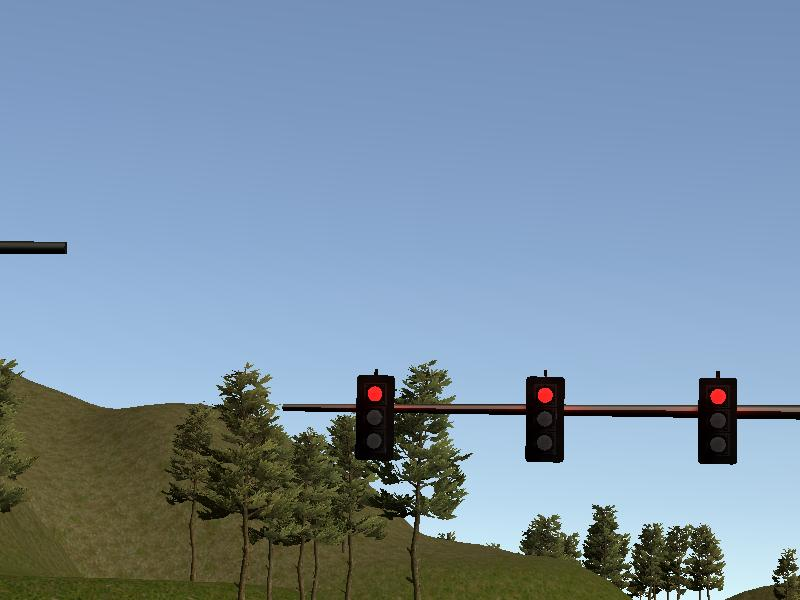Red: (525, 376, 564, 462), (354, 373, 393, 458), (699, 380, 736, 464)
